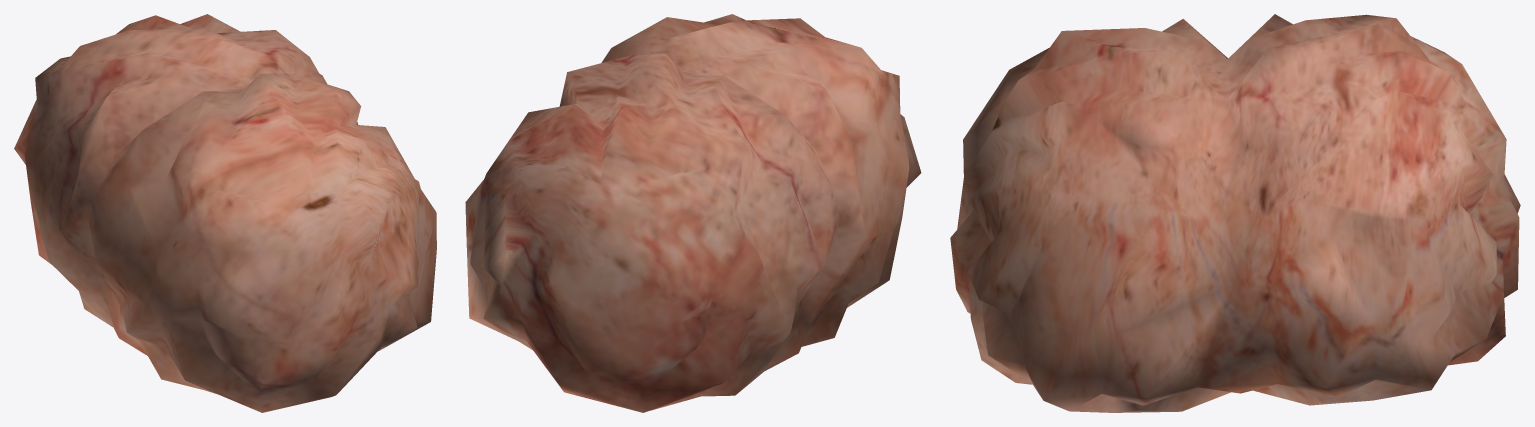
Rendered from Brain_02.glb.
3 views of the same model, side by side, from view 1: azimuth 30°, elevation 25°; view 2: azimuth 150°, elevation 25°; view 3: azimuth 270°, elevation 25° (orthographic). The views are drawn at different scales.
Visible parts, largest first — view 1: Brain_02; view 2: Brain_02; view 3: Brain_02.
Part boxes in pixels (box(x1,y1,x2,y2)): Brain_02: box(14, 14, 436, 412); Brain_02: box(465, 14, 921, 412); Brain_02: box(950, 14, 1520, 412).
Bounding box in the file's own units: 0.0353 × 0.0341 × 0.048.
1 material, 1 textured.
